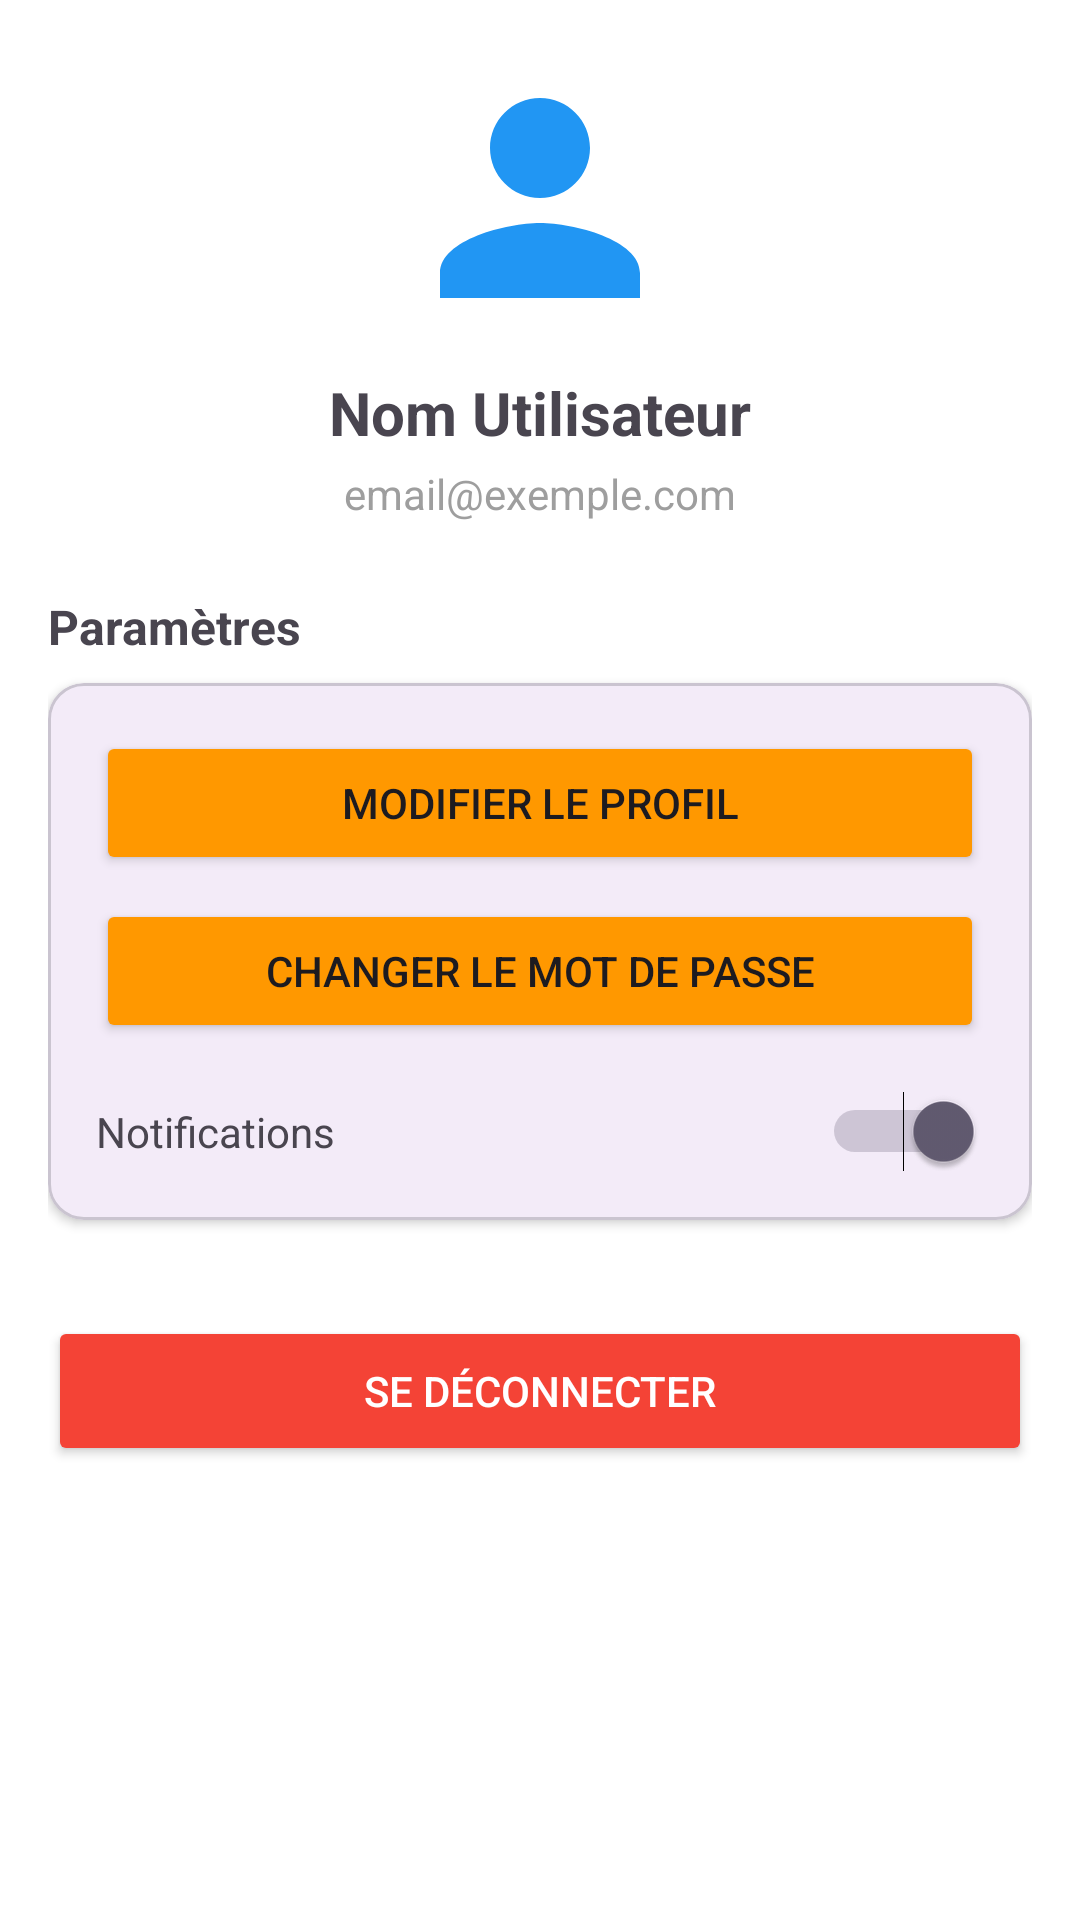

Screen size 1080×1920. Icon name, then its center in pixels as point (x, y):
profile: point (540, 198)
